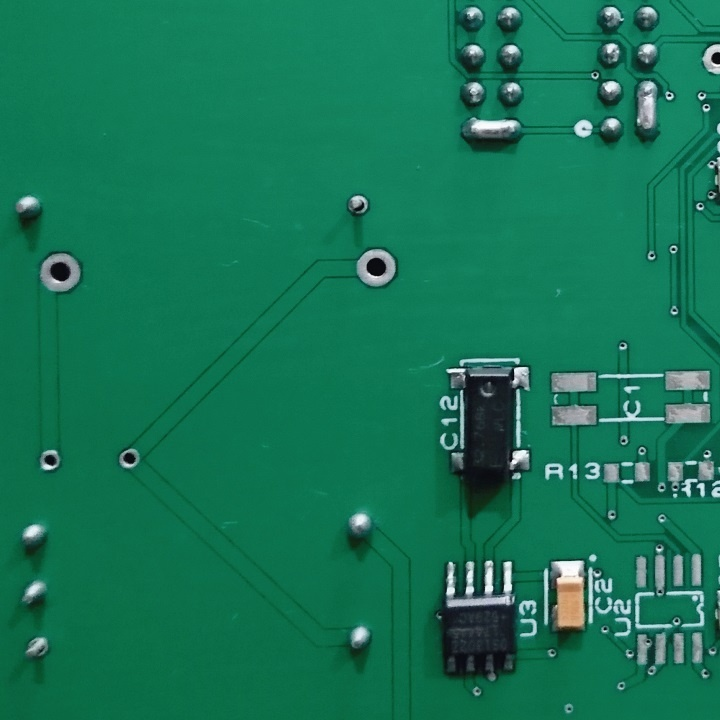F: (36, 250, 90, 298), (352, 244, 401, 292), (20, 633, 56, 669), (696, 38, 720, 78), (344, 191, 371, 220), (36, 447, 63, 476), (116, 446, 141, 475)
P: (631, 77, 664, 147), (459, 115, 530, 146)
